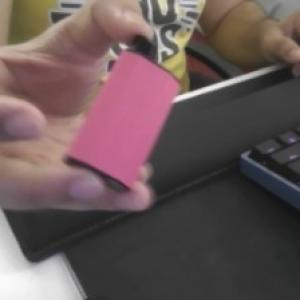Blume-E-Ciggirate: (62, 35, 183, 195)
